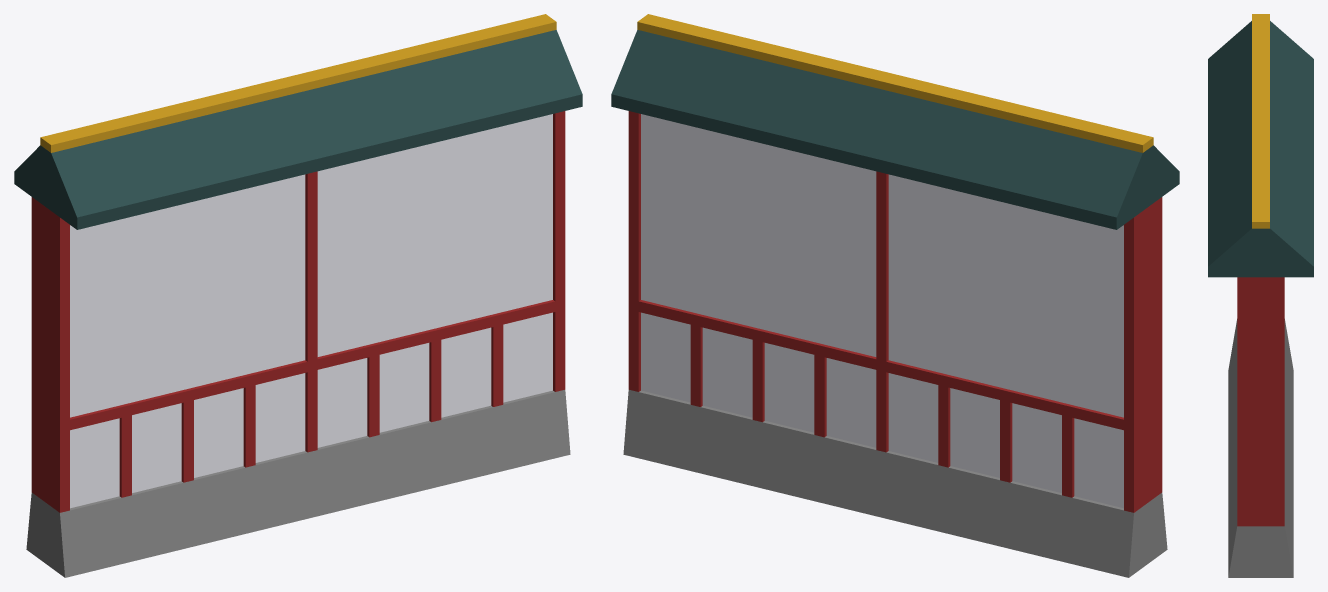
The model's file is Asian_Prop_Building_Fence_Wall_Framed_03.FBX.
3 views of the same model, side by side, from view 1: azimuth 30°, elevation 25°; view 2: azimuth 150°, elevation 25°; view 3: azimuth 270°, elevation 25° (orthographic). The views are drawn at different scales.
Visible parts, largest first — view 1: Asian_Prop_Building_Fence_Wall_Framed_03; view 2: Asian_Prop_Building_Fence_Wall_Framed_03; view 3: Asian_Prop_Building_Fence_Wall_Framed_03.
Boxes of the visible parts, x1=… form: Asian_Prop_Building_Fence_Wall_Framed_03: x1=14, y1=14, x2=582, y2=577; Asian_Prop_Building_Fence_Wall_Framed_03: x1=611, y1=14, x2=1179, y2=577; Asian_Prop_Building_Fence_Wall_Framed_03: x1=1208, y1=14, x2=1313, y2=577.
Bounding box in the file's own units: 5167 × 4128 × 1112.
